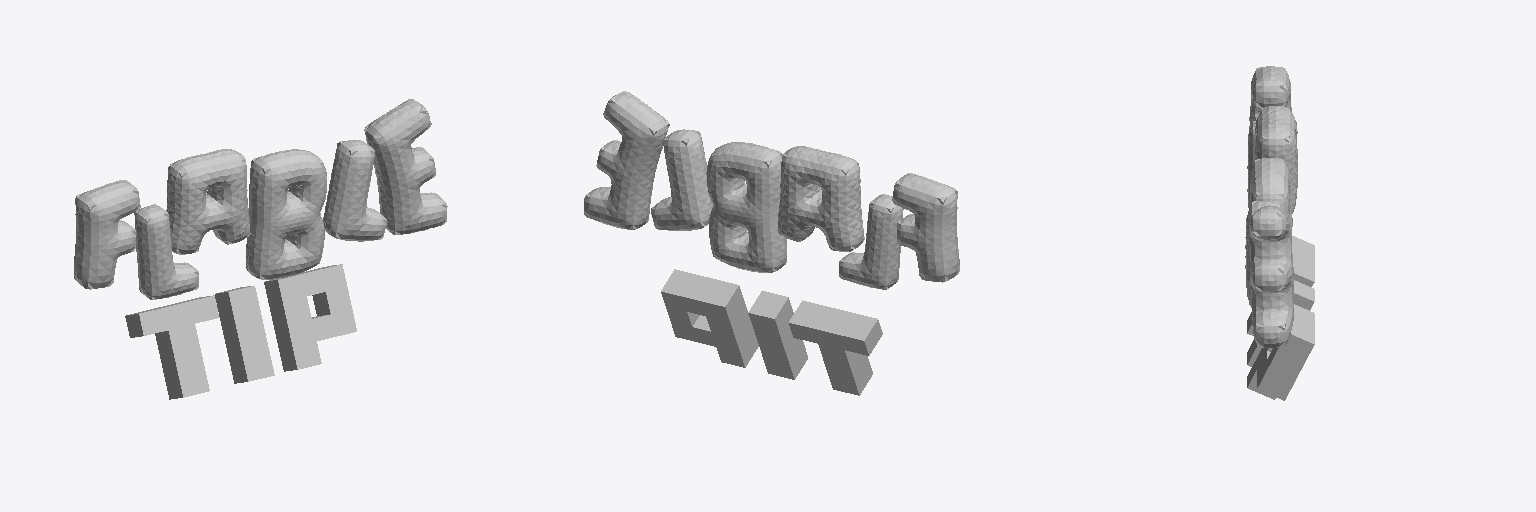
Rendered from FlableTitle.obj.
The picture shows the model from 3 angles: view 1: azimuth 30°, elevation 25°; view 2: azimuth 150°, elevation 25°; view 3: azimuth 270°, elevation 25°; orthographic projection.
Visible parts, largest first — view 1: FLABLE, P, T, I; view 2: FLABLE, P, T, I; view 3: FLABLE, P, T, I.
Part boxes in pixels (x1,y1,x2,y2): FLABLE: (74, 99, 447, 299); P: (264, 264, 356, 371); T: (125, 295, 219, 399); I: (215, 286, 274, 383); FLABLE: (584, 91, 959, 289); P: (661, 269, 758, 367); T: (789, 300, 882, 395); I: (748, 291, 807, 379); FLABLE: (1245, 66, 1297, 347); P: (1247, 304, 1314, 400); T: (1247, 236, 1314, 335); I: (1247, 280, 1314, 366).
Bounding box in the file's own units: 13.83 × 8.62 × 2.26.